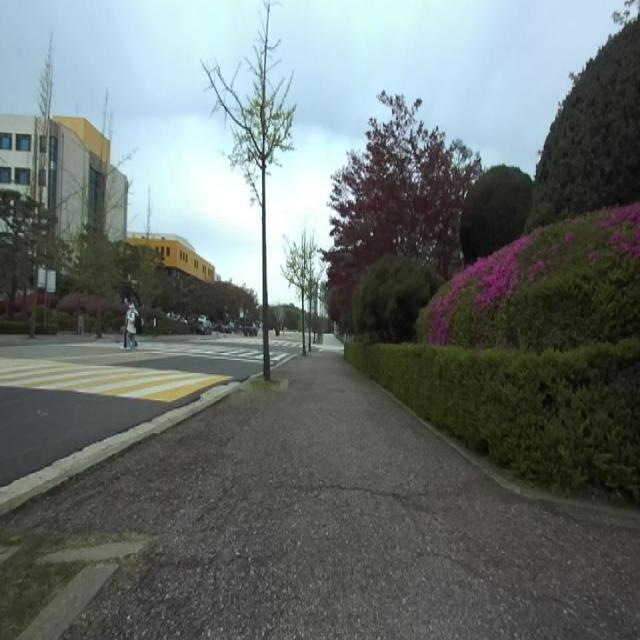sidewalk: (1, 352, 640, 639), (311, 333, 344, 350)
